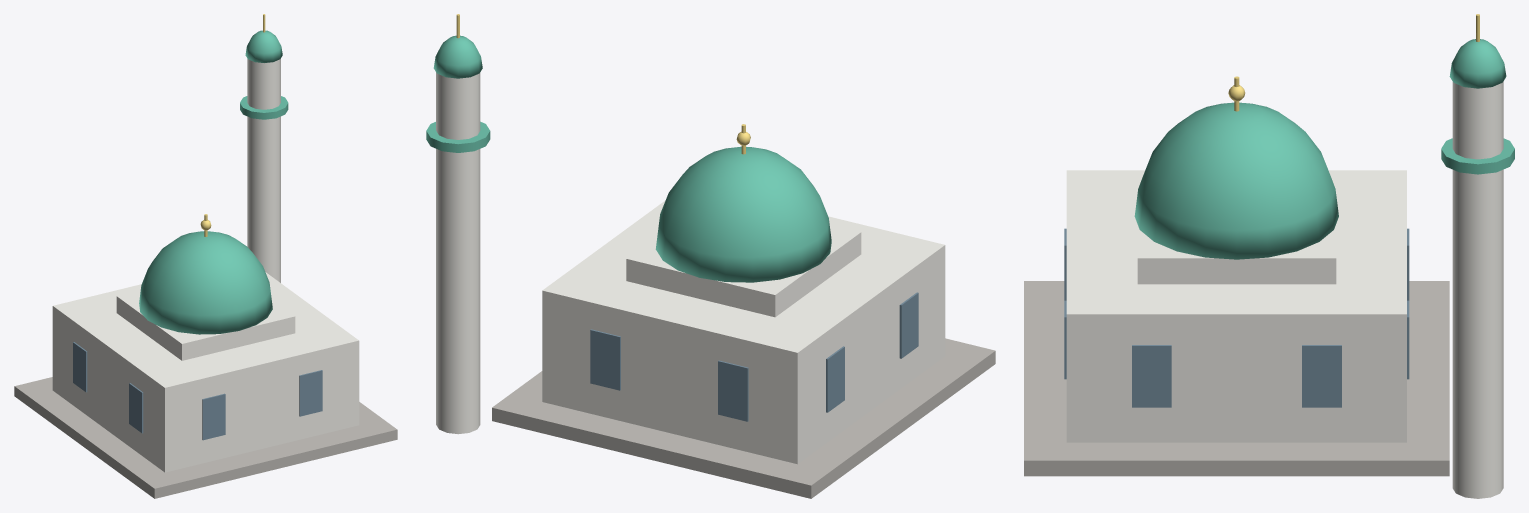
File: mosque.glb
3 renders of one model, left to right at view 1: azimuth 30°, elevation 25°; view 2: azimuth 150°, elevation 25°; view 3: azimuth 270°, elevation 25°, orthographic. The views are drawn at different scales.
Visible parts, largest first — view 1: Mosque; view 2: Mosque; view 3: Mosque.
Part boxes in pixels (x1,y1,x2,y2): Mosque: [14, 14, 397, 498]; Mosque: [426, 14, 995, 498]; Mosque: [1024, 14, 1514, 498].
Size of the model in its own units: 17.3 by 18.4 by 17.3.
